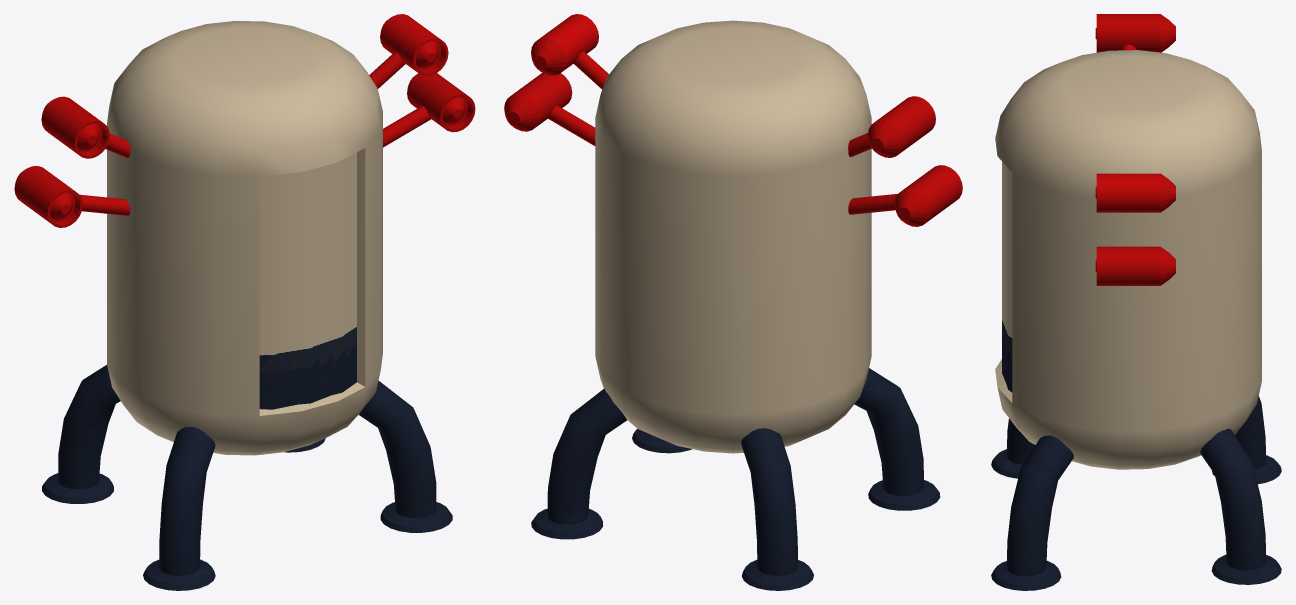
File: time-machine.fbx
3 renders of one model, left to right at view 1: azimuth 30°, elevation 25°; view 2: azimuth 150°, elevation 25°; view 3: azimuth 270°, elevation 25°, orthographic. The views are drawn at different scales.
Visible parts, largest first — view 1: gemi, kapak; view 2: gemi; view 3: gemi, kapak.
Part boxes in pixels (x1=…): gemi: x1=14, y1=14, x2=475, y2=590; kapak: x1=259, y1=152, x2=356, y2=409; gemi: x1=504, y1=14, x2=962, y2=590; gemi: x1=991, y1=14, x2=1281, y2=590; kapak: x1=1002, y1=161, x2=1012, y2=392.
Bounding box in the file's own units: 24.19 × 24.39 × 14.74.
